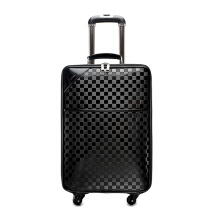luggage: (59, 12, 153, 205)
